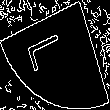L_E: (33, 32, 77, 78)
